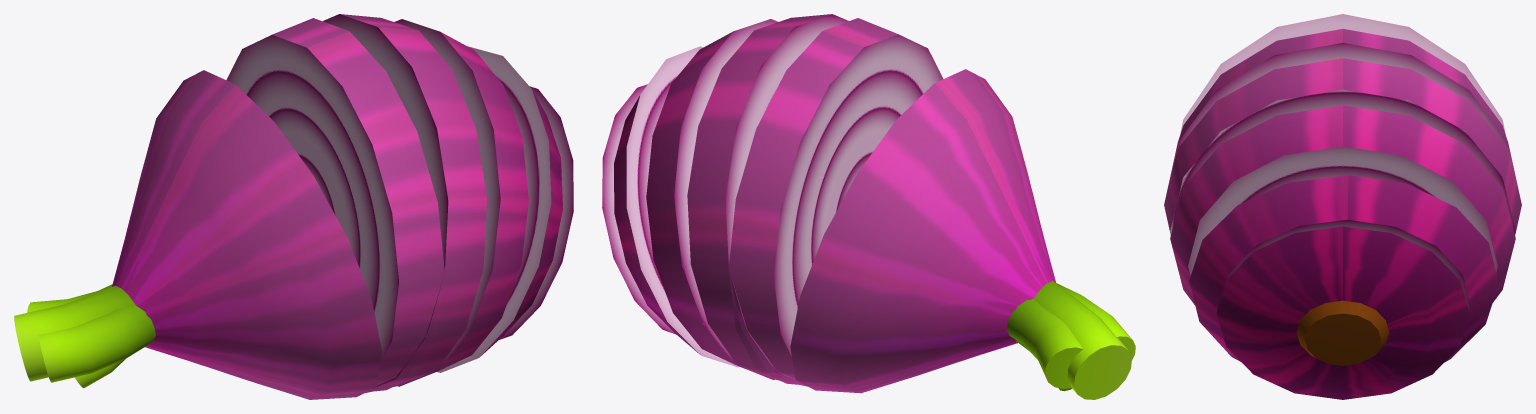
The model's file is Onion_01_S5.fbx.
3 views of the same model, side by side, from view 1: azimuth 30°, elevation 25°; view 2: azimuth 150°, elevation 25°; view 3: azimuth 270°, elevation 25° (orthographic). The views are drawn at different scales.
Visible parts, largest first — view 1: Onion_01_S5; view 2: Onion_01_S5; view 3: Onion_01_S5.
Part boxes in pixels (box(x1,y1,x2,y2)): Onion_01_S5: box(14, 14, 573, 399); Onion_01_S5: box(602, 14, 1135, 399); Onion_01_S5: box(1164, 14, 1521, 399).
Size of the model in its own units: 51.38 by 32.97 by 32.97.
